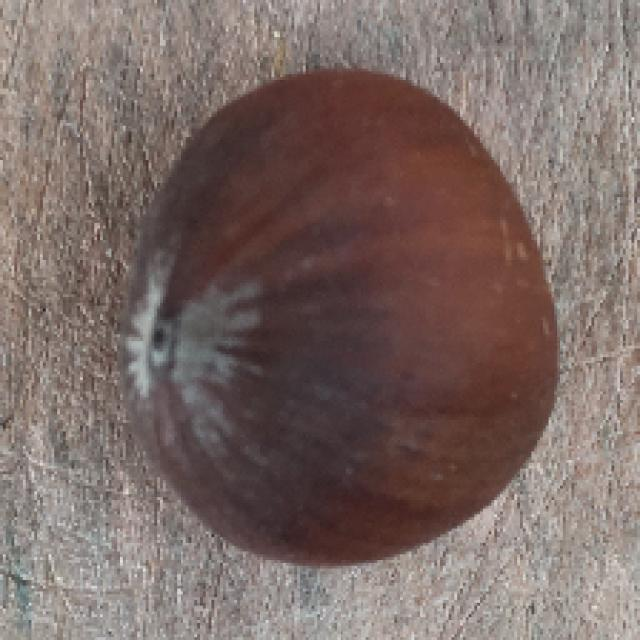qualityHazelnut: (123, 71, 567, 568)
